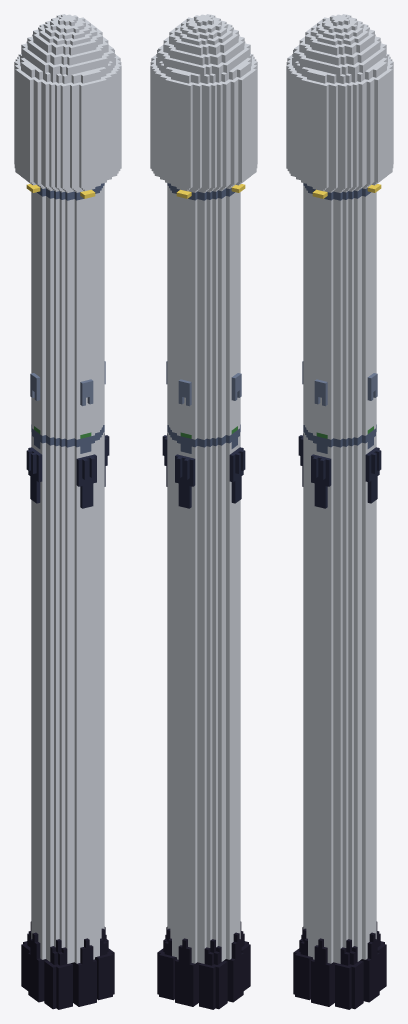
File: pelicano_ix.obj
The picture shows the model from 3 angles, left to right: view 1: azimuth 30°, elevation 25°; view 2: azimuth 150°, elevation 25°; view 3: azimuth 330°, elevation 25°; orthographic projection.
Size of the model in its own units: 2.5 by 25.6 by 2.5.
Materials: 1 (1 with a texture image).
